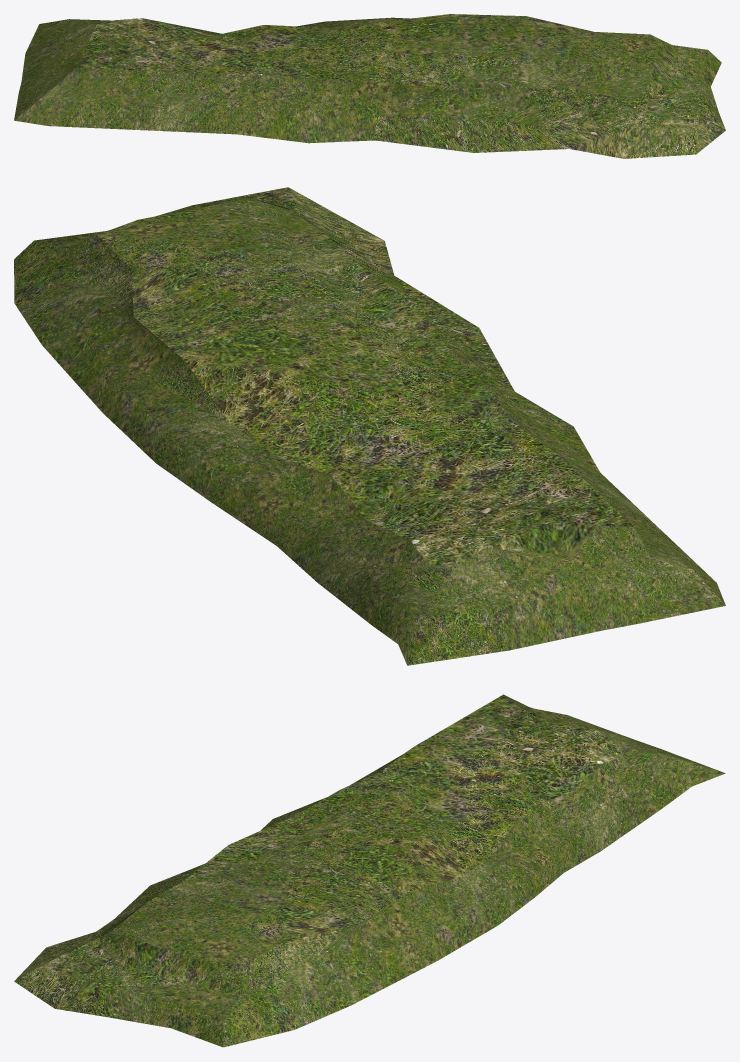
Rendered from GrassMound.fbx.
3 views of the same model, one above another, from view 1: azimuth 30°, elevation 25°; view 2: azimuth 150°, elevation 25°; view 3: azimuth 270°, elevation 25° (orthographic). The views are drawn at different scales.
Parts seen in each view (by area): view 1: GrassMound; view 2: GrassMound; view 3: GrassMound.
Boxes of the visible parts, x1,y1,x2,y2 form: GrassMound: [14, 14, 725, 158]; GrassMound: [14, 187, 725, 665]; GrassMound: [14, 694, 725, 1047].
Bounding box in the file's own units: 41.77 × 3.84 × 36.58.
